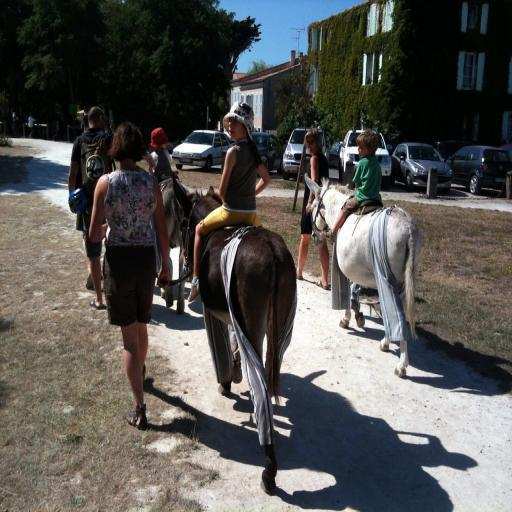horse: (172, 172, 296, 494), (304, 169, 421, 382), (154, 170, 192, 316)
